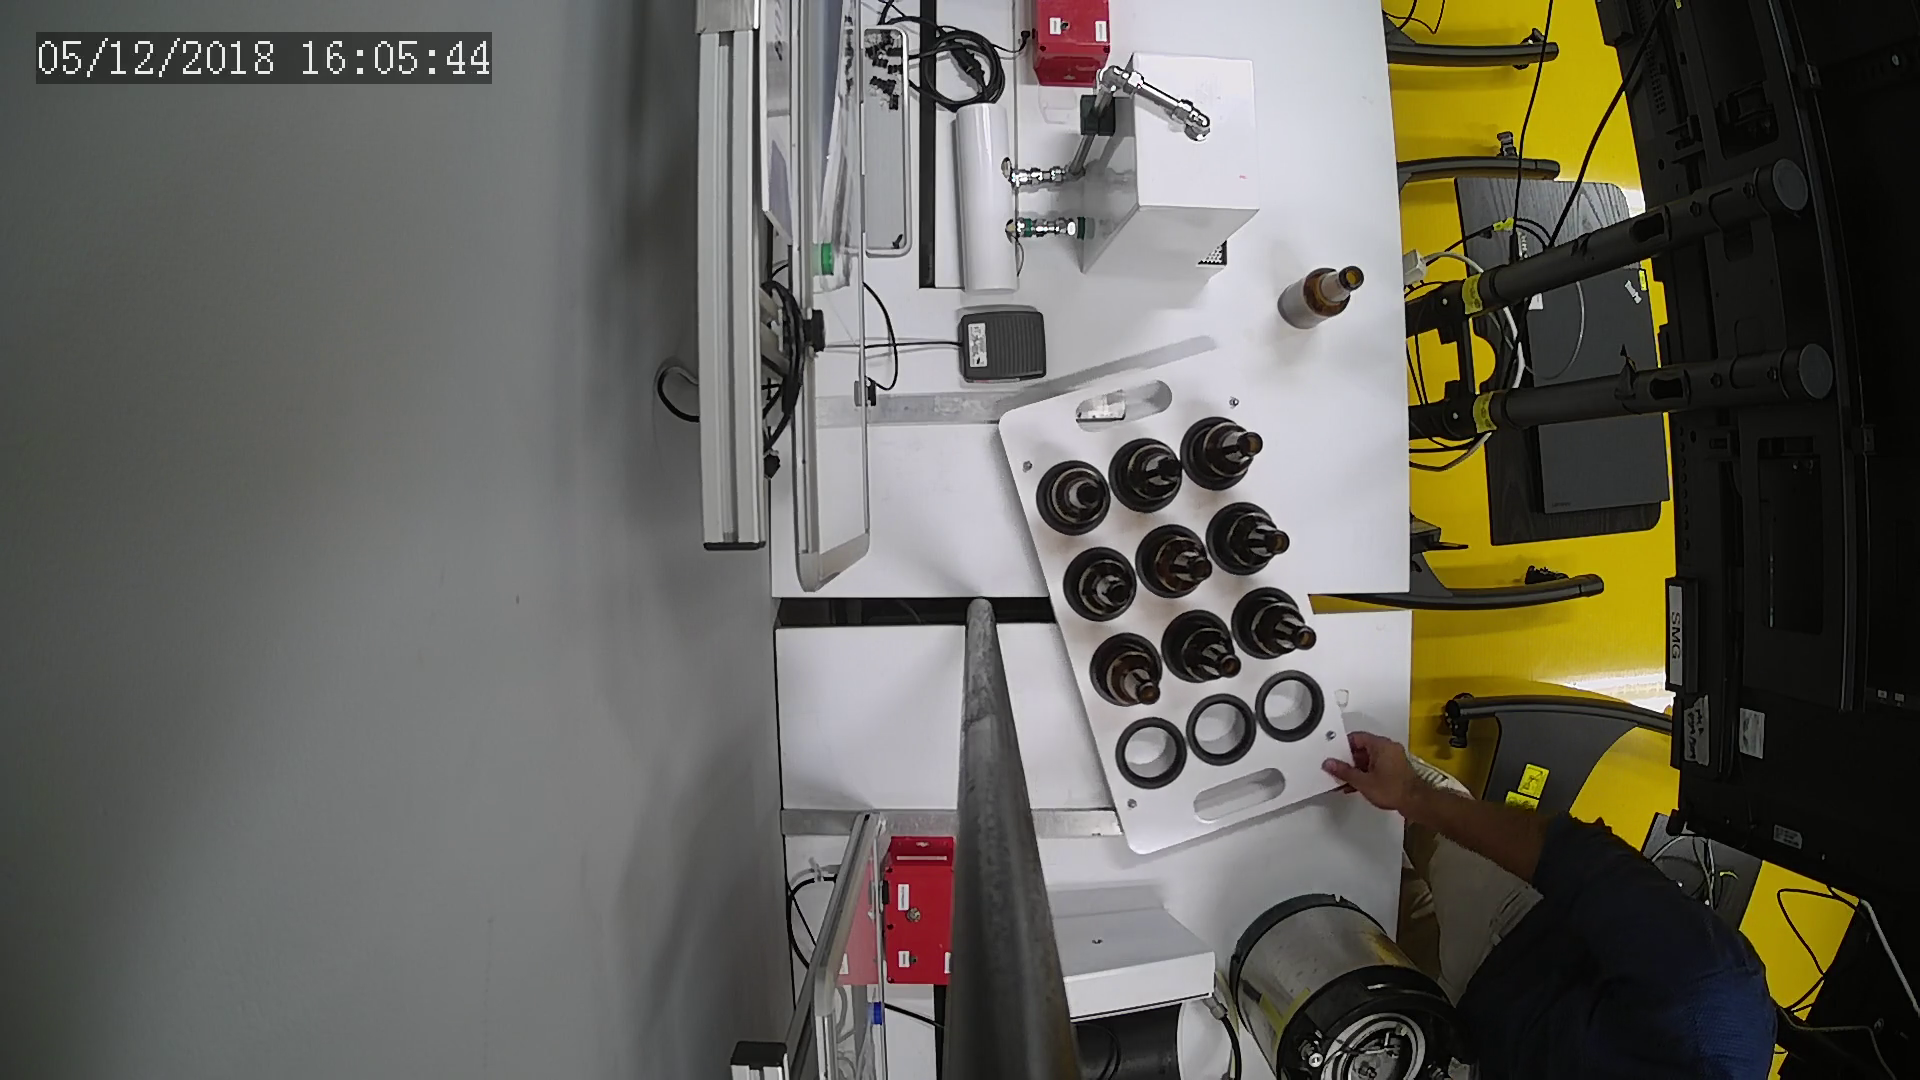filled_bottle: (1237, 585, 1324, 669), (1179, 413, 1270, 491), (1087, 632, 1170, 716), (1160, 609, 1244, 690), (1215, 501, 1299, 580), (1139, 524, 1218, 603), (1036, 459, 1116, 535), (1110, 436, 1189, 512), (1065, 549, 1139, 626)
trolley: (993, 349, 1360, 858)
unfilled_bottle: (1276, 266, 1367, 334)
